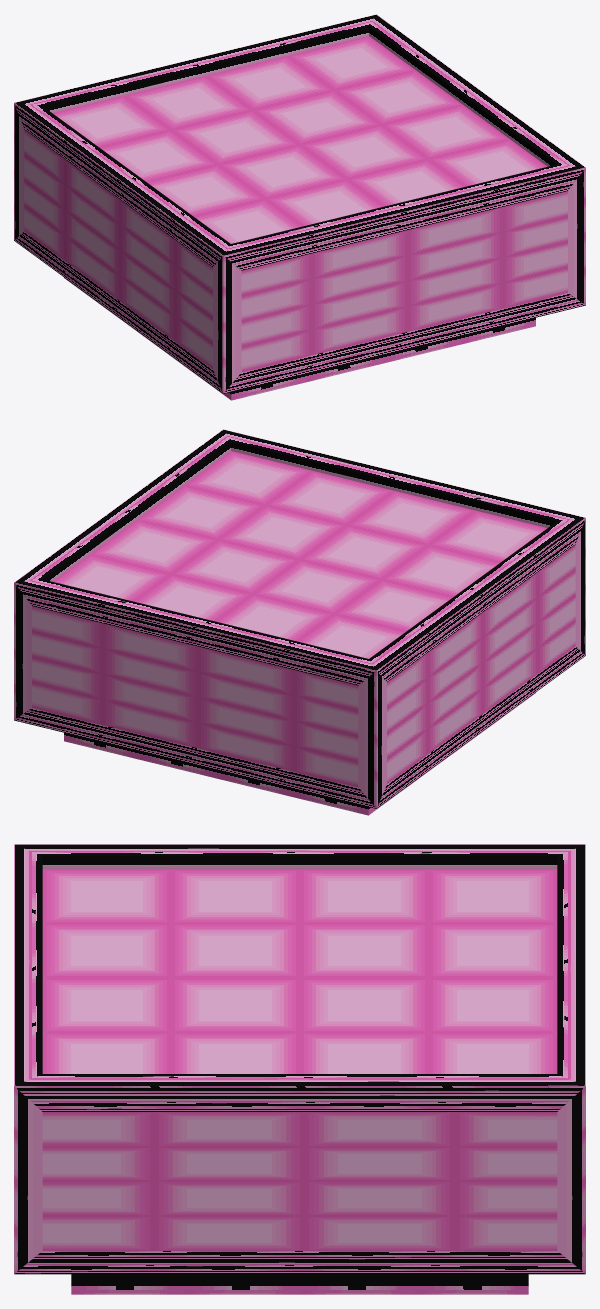
File: 3881kg3case09.gltf
3 views of the same model, one above another, from view 1: azimuth 30°, elevation 25°; view 2: azimuth 150°, elevation 25°; view 3: azimuth 270°, elevation 25° (orthographic). The views are drawn at different scales.
Parts seen in each view (by area): view 1: 3881kg3case09; view 2: 3881kg3case09; view 3: 3881kg3case09.
Boxes of the visible parts, x1=… form: 3881kg3case09: x1=14, y1=14, x2=585, y2=400; 3881kg3case09: x1=14, y1=429, x2=585, y2=815; 3881kg3case09: x1=14, y1=844, x2=585, y2=1294.
Bounding box in the file's own units: 1 × 0.4399 × 1.
2 materials, 2 textured.
